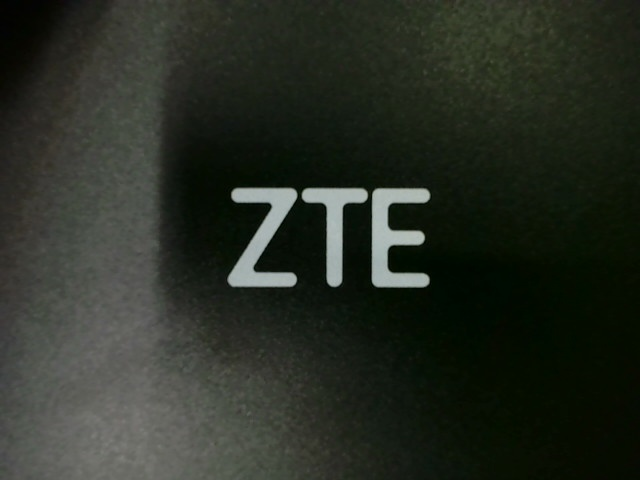AN_ZTE: (221, 183, 430, 296)
